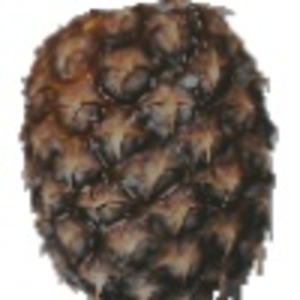abacaxi: (17, 1, 280, 291)
